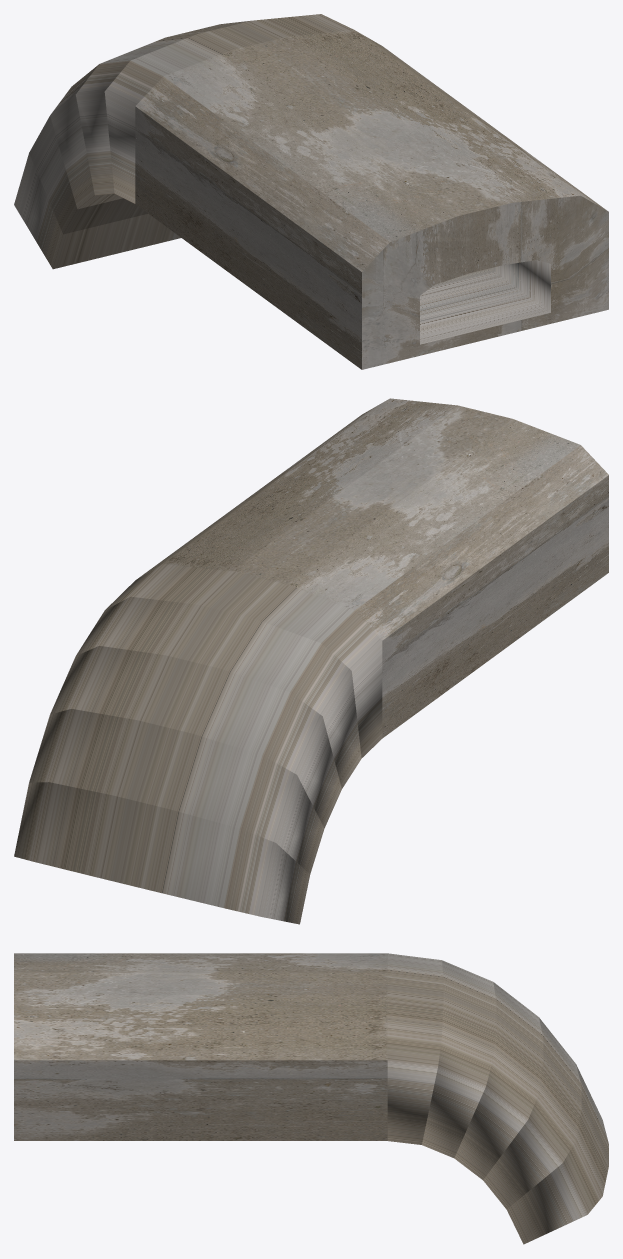
The model's file is TUNELS.fbx.
The picture shows the model from 3 angles, top to bottom: view 1: azimuth 30°, elevation 25°; view 2: azimuth 150°, elevation 25°; view 3: azimuth 270°, elevation 25°; orthographic projection. The views are drawn at different scales.
Parts seen in each view (by area): view 1: Cube.079; view 2: Cube.079; view 3: Cube.079.
Part boxes in pixels (bbox=[...]): Cube.079: bbox=[14, 14, 608, 369]; Cube.079: bbox=[14, 398, 608, 924]; Cube.079: bbox=[14, 953, 608, 1244].
Size of the model in its own units: 7206 by 7135 by 18228.
